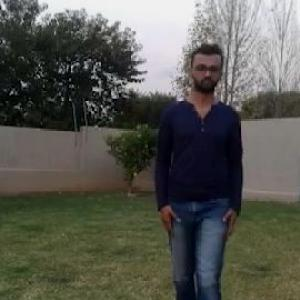follow: (159, 39, 242, 299)
